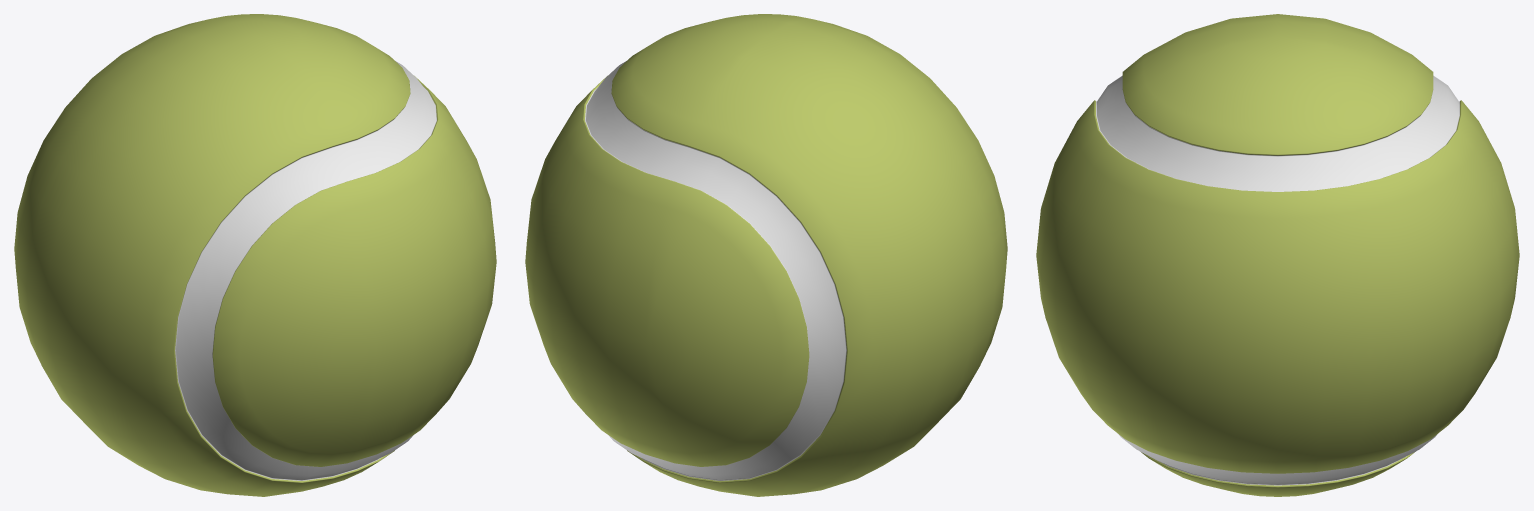
Rendered from tennis ball.fbx.
The picture shows the model from 3 angles, left to right: view 1: azimuth 30°, elevation 25°; view 2: azimuth 150°, elevation 25°; view 3: azimuth 270°, elevation 25°; orthographic projection.
Parts seen in each view (by area): view 1: Sphere; view 2: Sphere; view 3: Sphere.
Boxes of the visible parts, x1,y1,x2,y2 form: Sphere: (14,14,496,496); Sphere: (525,14,1007,496); Sphere: (1036,14,1519,496).
Size of the model in its own units: 200 by 200 by 200.
